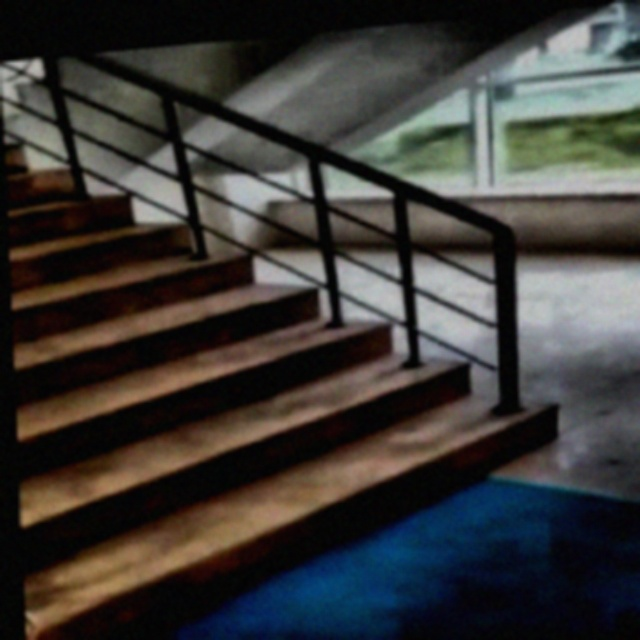stair: (8, 36, 563, 638)
